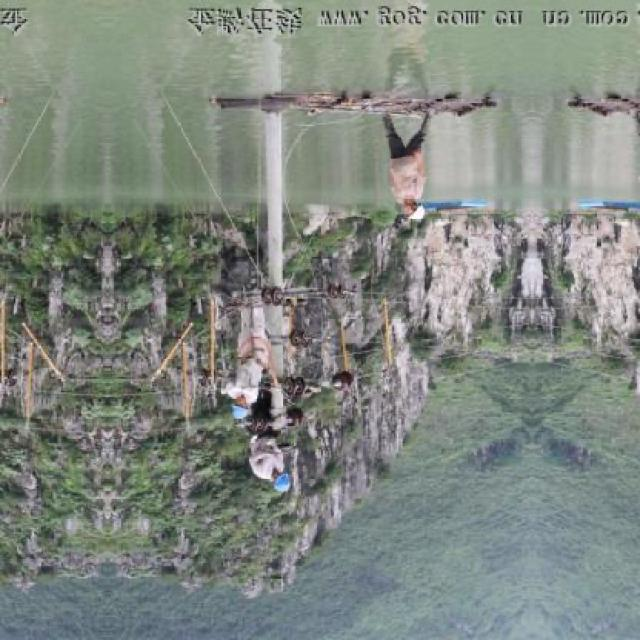con casco: (218, 391, 258, 423), (405, 186, 433, 230), (273, 462, 304, 495)
